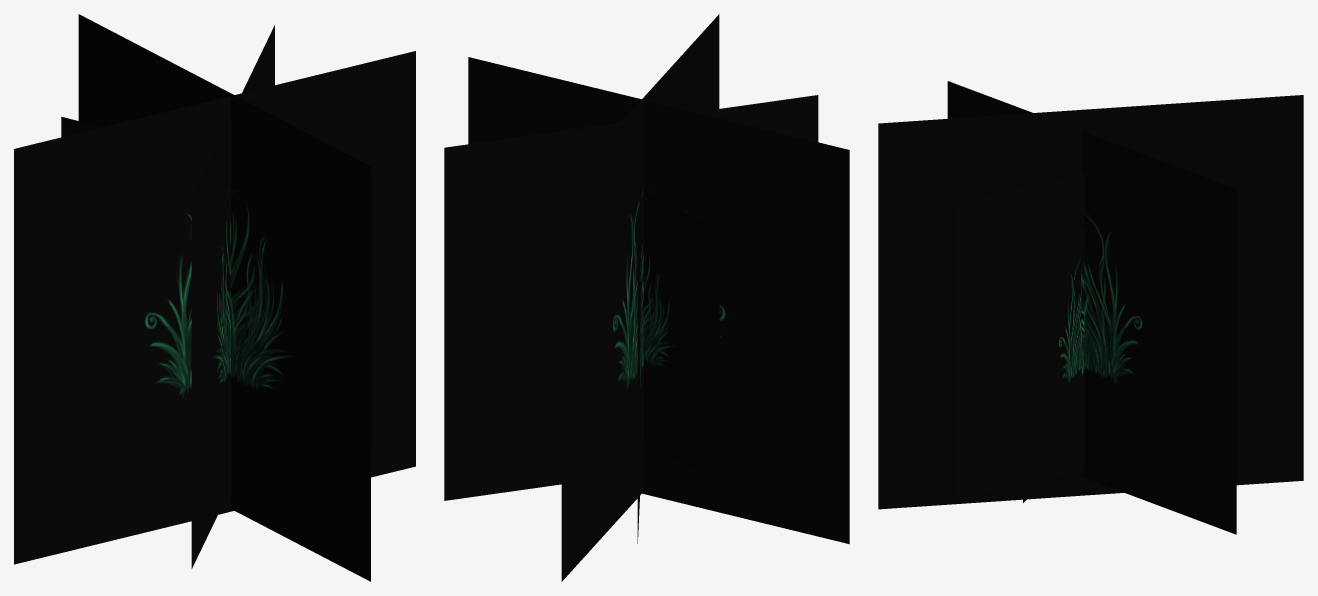
The model's file is Plant 8.FBX.
The picture shows the model from 3 angles, left to right: view 1: azimuth 30°, elevation 25°; view 2: azimuth 150°, elevation 25°; view 3: azimuth 270°, elevation 25°; orthographic projection. The views are drawn at different scales.
Parts seen in each view (by area): view 1: Plane001; view 2: Plane001; view 3: Plane001.
Boxes of the visible parts, box(x1,y1,x2,y2) form: Plane001: box(14, 14, 415, 581); Plane001: box(444, 14, 849, 581); Plane001: box(878, 81, 1303, 534).
Size of the model in its own units: 54.29 by 54 by 53.62.
